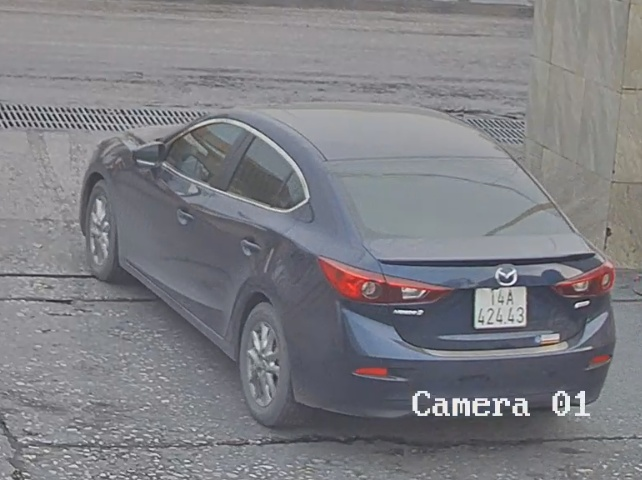vehicle plate: (471, 282, 531, 331)
